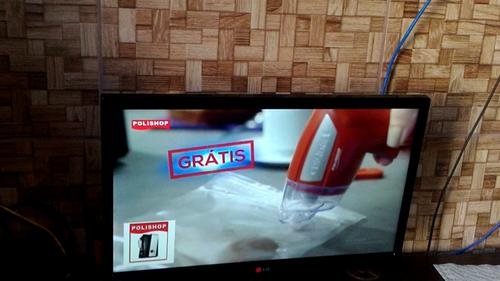Polishop #1: (123, 220, 175, 268)
